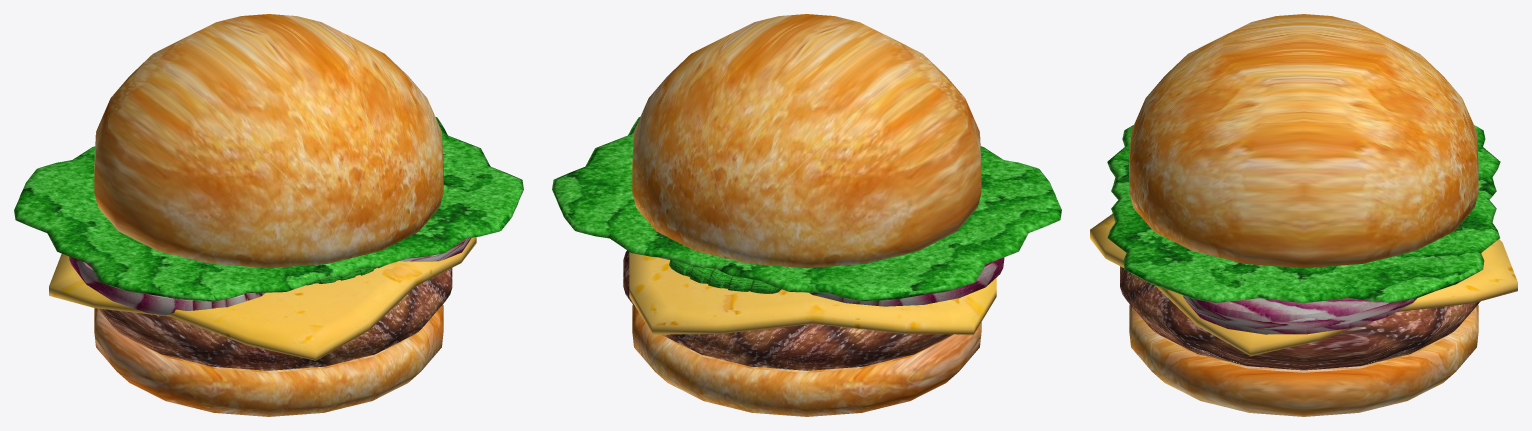
File: burger3.glb
3 renders of one model, left to right at view 1: azimuth 30°, elevation 25°; view 2: azimuth 150°, elevation 25°; view 3: azimuth 270°, elevation 25°, orthographic.
Visible parts, largest first — view 1: Cylinder003; view 2: Cylinder003; view 3: Cylinder003.
Part boxes in pixels (x1=…): Cylinder003: x1=14, y1=14, x2=523, y2=416; Cylinder003: x1=552, y1=14, x2=1061, y2=416; Cylinder003: x1=1090, y1=14, x2=1517, y2=416.
Size of the model in its own units: 150 by 112 by 131.
6 materials, 6 textured.
